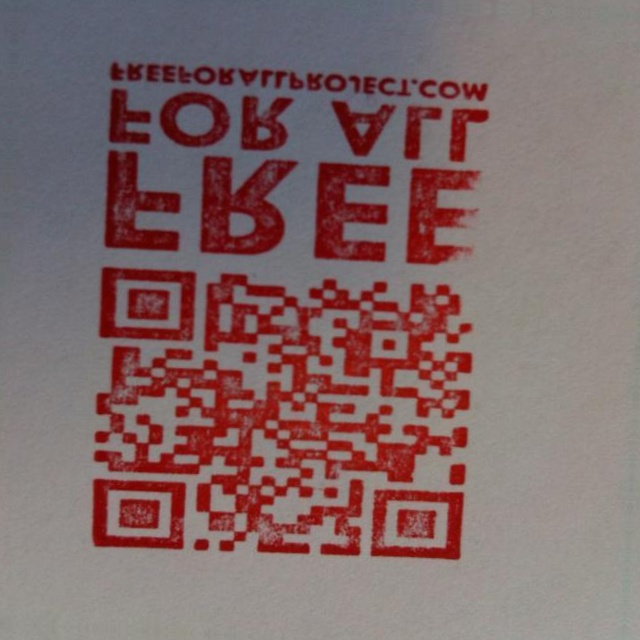qr-code: (88, 267, 474, 565)
